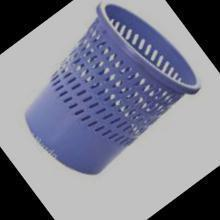Bote de Basura: (0, 0, 211, 194)
